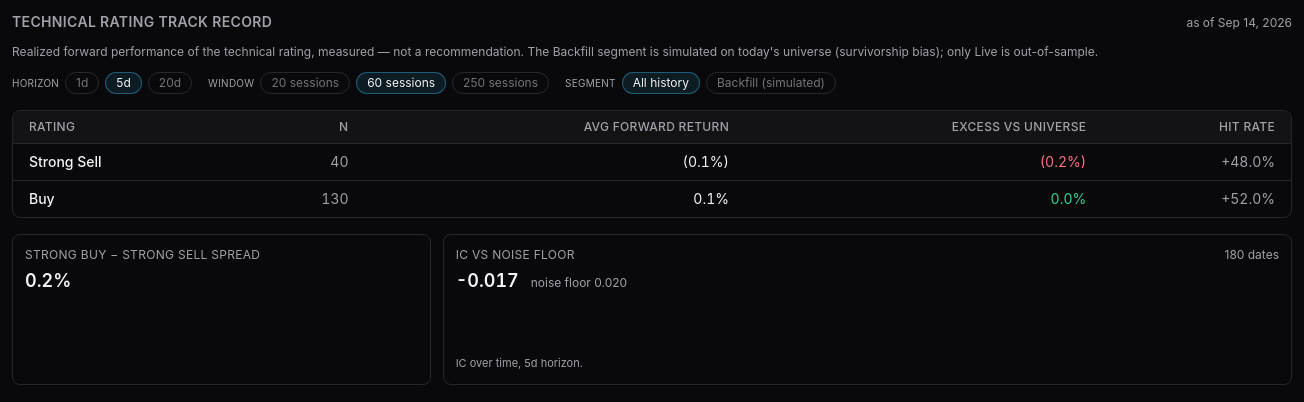
Scenario: RatingTrackRecordCard › shows an honest empty state for a cell the producer hasn't published (20d)
Click the button "20d": point(170, 83) left=148, top=72, right=192, bottom=94
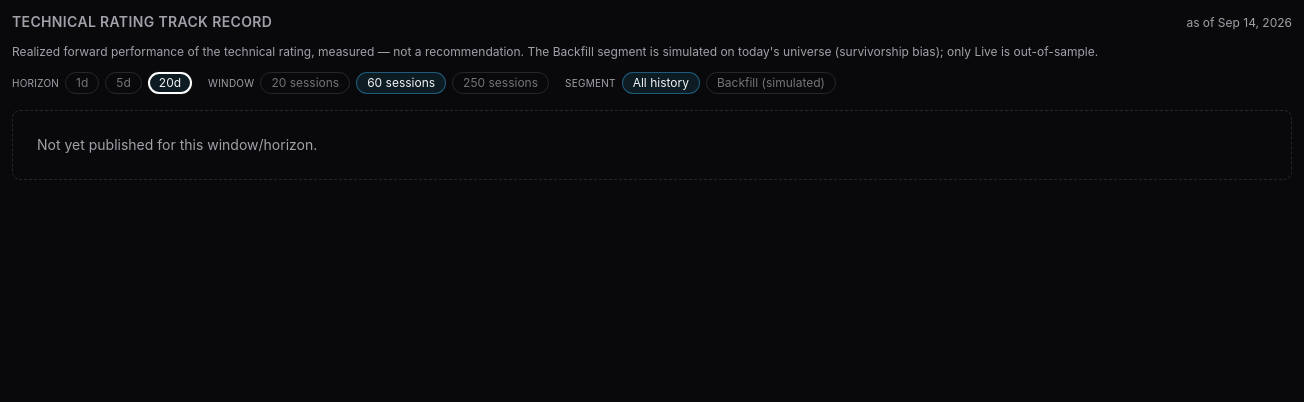
Now the text "Not yet published for this window/horizon." is shown, box left=12, top=110, right=1292, bottom=180
